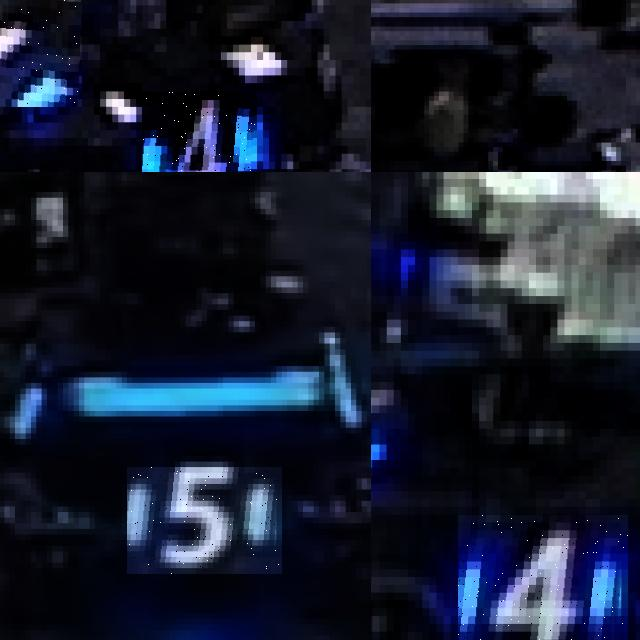B4: (457, 514, 628, 640), (142, 91, 256, 172), (0, 0, 82, 106)
B5: (127, 467, 282, 574)
